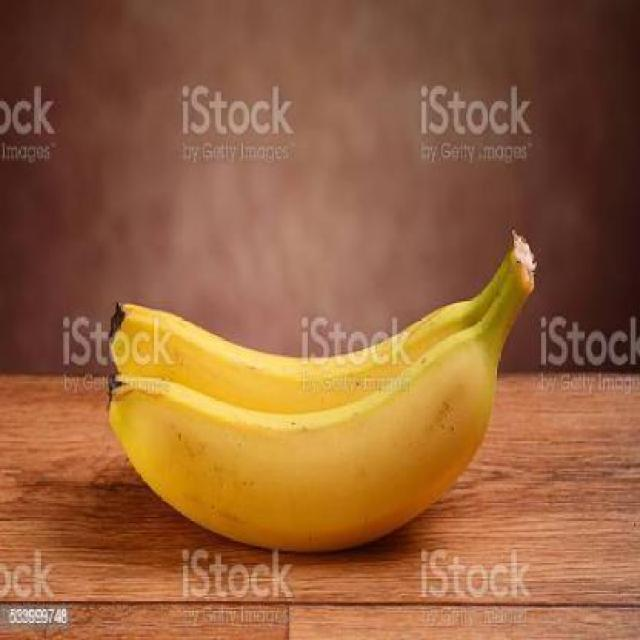banana: (108, 235, 535, 552)
